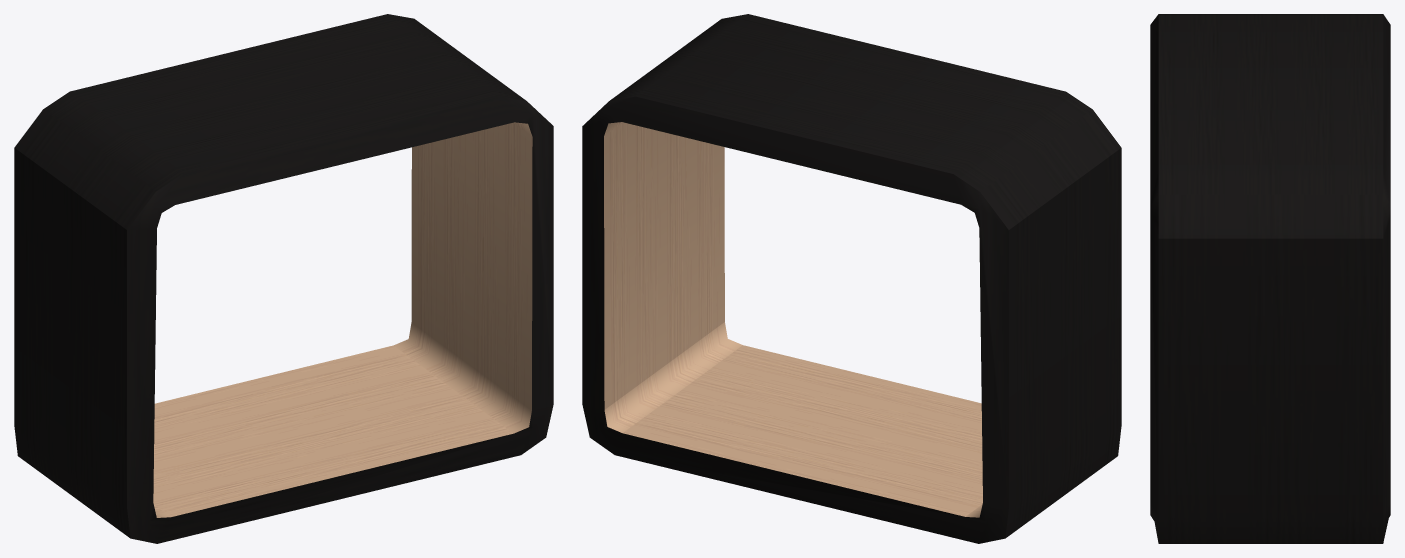
File: Wall_Shelf_02_F.FBX
3 renders of one model, left to right at view 1: azimuth 30°, elevation 25°; view 2: azimuth 150°, elevation 25°; view 3: azimuth 270°, elevation 25°, orthographic.
Visible parts, largest first — view 1: Wall_Shelf_02; view 2: Wall_Shelf_02; view 3: Wall_Shelf_02.
Boxes of the visible parts, x1=… form: Wall_Shelf_02: x1=14, y1=14, x2=553, y2=543; Wall_Shelf_02: x1=582, y1=14, x2=1121, y2=543; Wall_Shelf_02: x1=1150, y1=14, x2=1390, y2=543.
Bounding box in the file's own units: 120 × 98.08 × 58.85.
